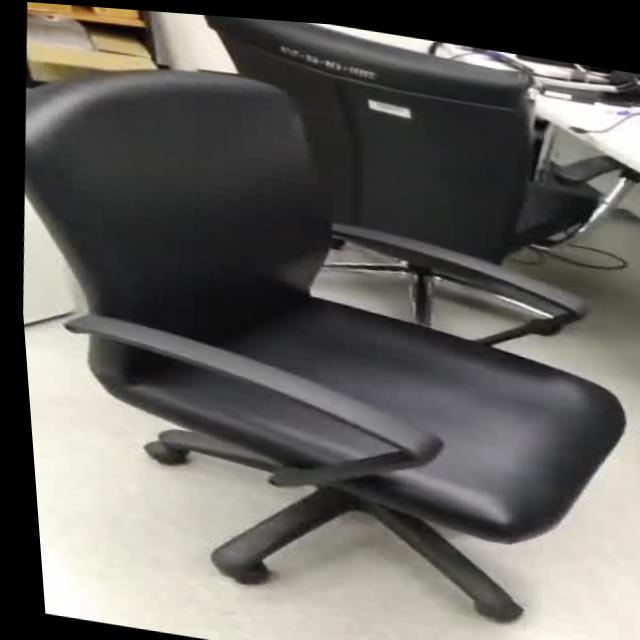chair: (2, 33, 640, 640)
